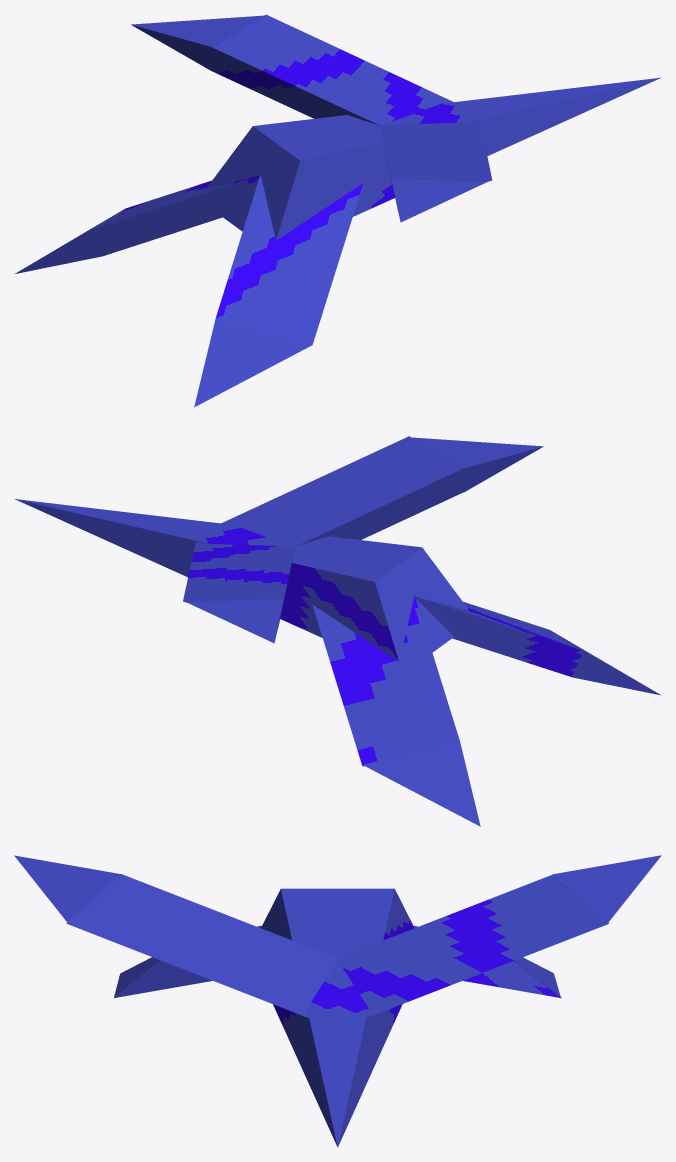
The model's file is player.obj.
The picture shows the model from 3 angles, top to bottom: view 1: azimuth 30°, elevation 25°; view 2: azimuth 150°, elevation 25°; view 3: azimuth 270°, elevation 25°; orthographic projection. The views are drawn at different scales.
Visible parts, largest first — view 1: 立方体.003_立方体.002; view 2: 立方体.003_立方体.002; view 3: 立方体.003_立方体.002.
Boxes of the visible parts, x1,y1,x2,y2 form: 立方体.003_立方体.002: (15,14,660,407); 立方体.003_立方体.002: (15,436,660,826); 立方体.003_立方体.002: (14,855,661,1147).
Size of the model in its own units: 13.09 by 4.03 by 10.97.
1 material, 1 textured.
